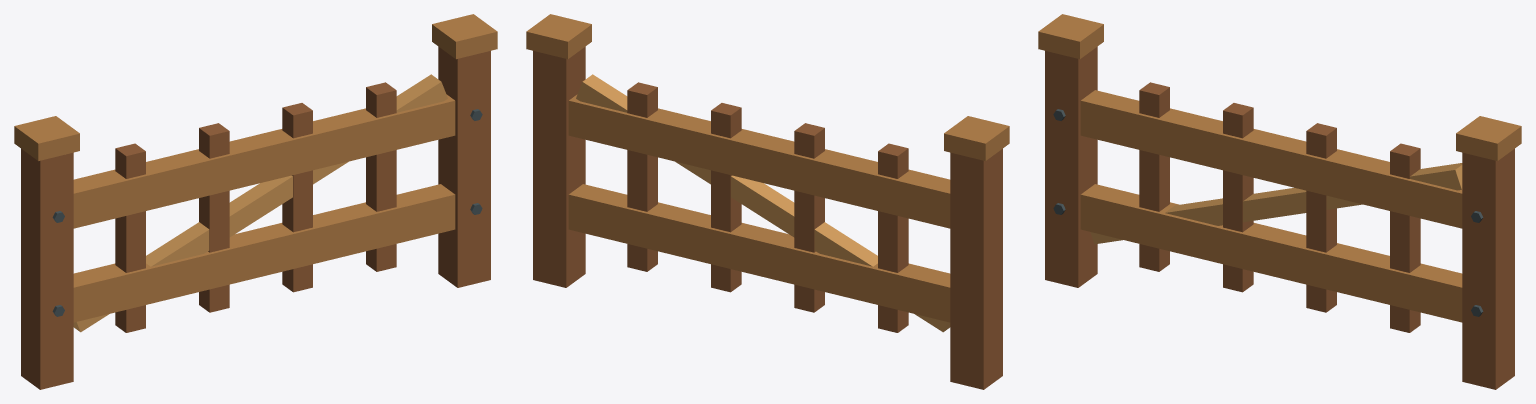
The model's file is fence_kit__fence_gate.glb.
The picture shows the model from 3 angles, left to right: view 1: azimuth 30°, elevation 25°; view 2: azimuth 150°, elevation 25°; view 3: azimuth 330°, elevation 25°; orthographic projection.
Parts seen in each view (by area): view 1: fence_gate__wood2.001, fence_gate__wood.001, fence_gate__wood3.001, fence_gate__metal.001; view 2: fence_gate__wood2.001, fence_gate__wood.001, fence_gate__wood3.001; view 3: fence_gate__wood2.001, fence_gate__wood.001, fence_gate__wood3.001, fence_gate__metal.001.
Boxes of the visible parts, <box> form: fence_gate__wood2.001: <box>14,14,497,322</box>; fence_gate__wood.001: <box>21,46,490,389</box>; fence_gate__wood3.001: <box>73,74,447,332</box>; fence_gate__metal.001: <box>52,109,482,316</box>; fence_gate__wood2.001: <box>526,14,1009,322</box>; fence_gate__wood.001: <box>533,46,1002,389</box>; fence_gate__wood3.001: <box>576,74,950,332</box>; fence_gate__wood2.001: <box>1038,14,1521,322</box>; fence_gate__wood.001: <box>1045,46,1514,389</box>; fence_gate__wood3.001: <box>1090,163,1462,244</box>; fence_gate__metal.001: <box>1053,109,1483,316</box>.
Bounding box in the file's own units: 2.2 × 1.14 × 0.205.
